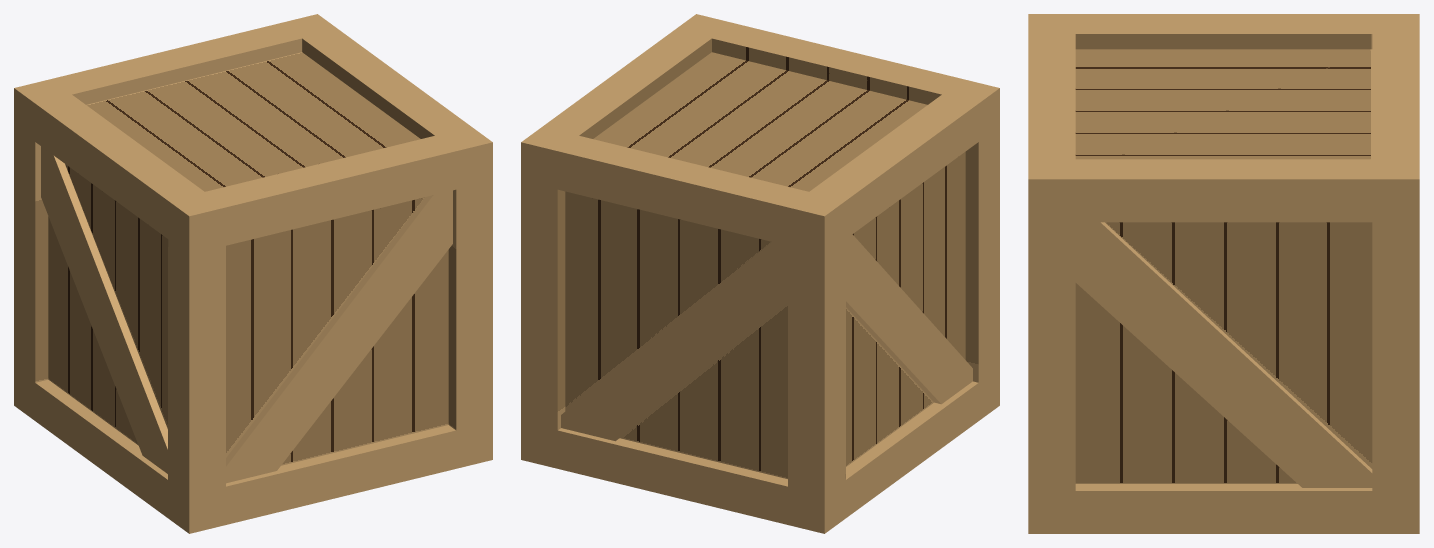
3 views of the same model, side by side, from view 1: azimuth 30°, elevation 25°; view 2: azimuth 150°, elevation 25°; view 3: azimuth 270°, elevation 25° (orthographic). The views are drawn at different scales.
Parts seen in each view (by area): view 1: CubeFinal; view 2: CubeFinal; view 3: CubeFinal.
Part boxes in pixels (left/top/right/bottom): CubeFinal: left=14, top=14, right=492, bottom=533; CubeFinal: left=521, top=14, right=999, bottom=533; CubeFinal: left=1028, top=14, right=1419, bottom=533.
Size of the model in its own units: 2.2 by 2.2 by 2.2.
Materials: 1 (1 with a texture image).
